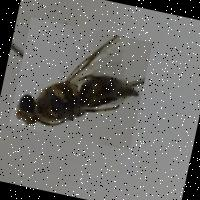Oriental-fruit-fly: (7, 15, 152, 150)
